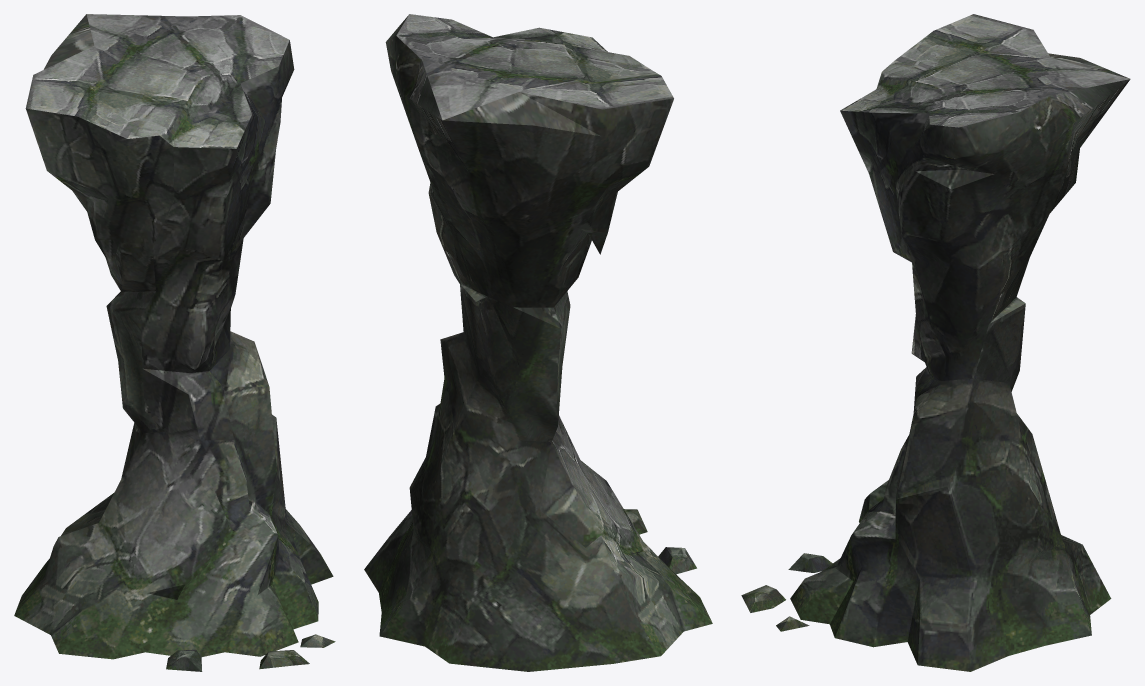
Rendered from dx_shitou_7.FBX.
The picture shows the model from 3 angles, left to right: view 1: azimuth 30°, elevation 25°; view 2: azimuth 150°, elevation 25°; view 3: azimuth 270°, elevation 25°; orthographic projection. The views are drawn at different scales.
Visible parts, largest first — view 1: dx_shitou_7; view 2: dx_shitou_7; view 3: dx_shitou_7.
Boxes of the visible parts, x1=… form: dx_shitou_7: x1=14, y1=14, x2=335, y2=671; dx_shitou_7: x1=364, y1=14, x2=712, y2=671; dx_shitou_7: x1=741, y1=14, x2=1130, y2=671.
Size of the model in its own units: 247 by 430 by 283.
